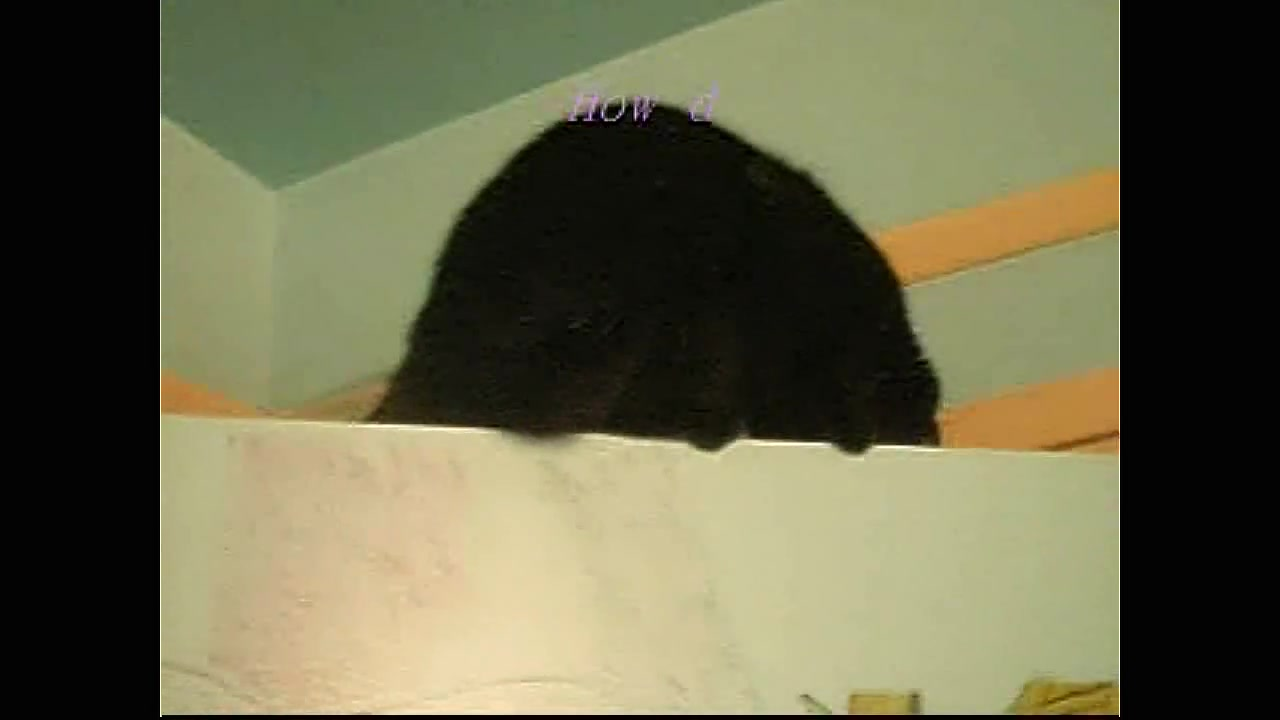cat: (362, 98, 943, 453)
